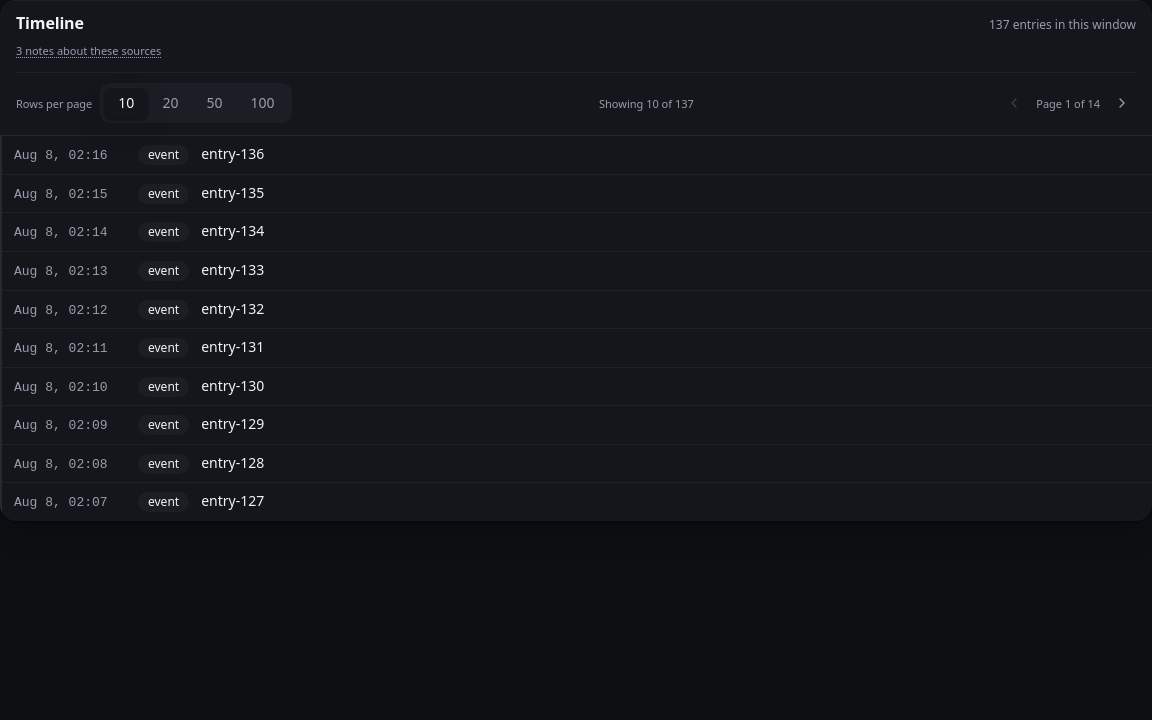
Test: InvestigationTimeline — pagination › clamps to the last page when the list shrinks underneath the reader
Click the radio button labelled "50" at (214,103), box [192,87,236,119]
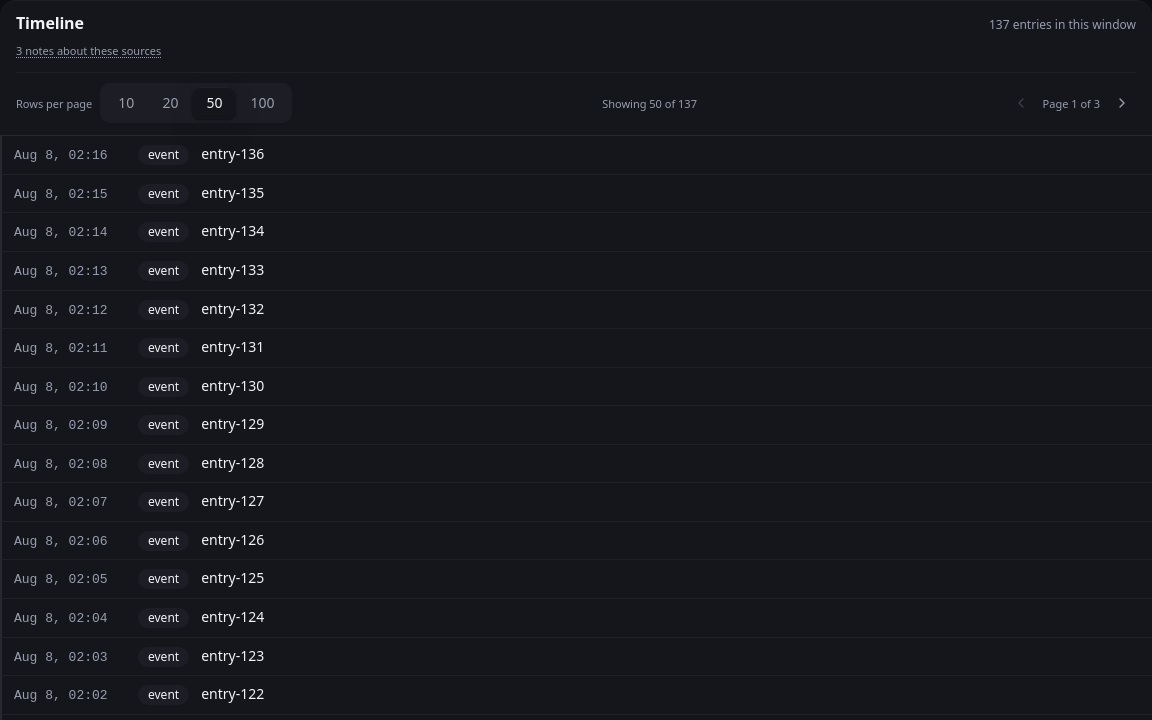
Click the button named "Next page" at (1122,103), box [1108,89,1136,117]
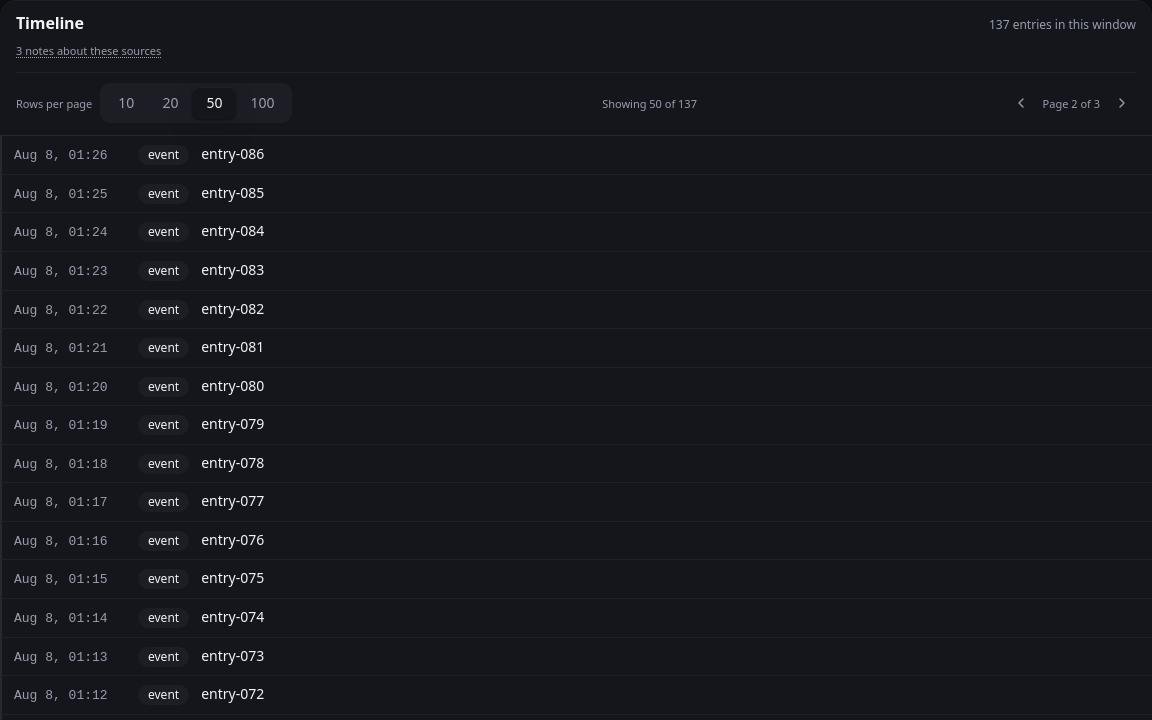
Click the button named "Next page" at (1122,103), box [1108,89,1136,117]
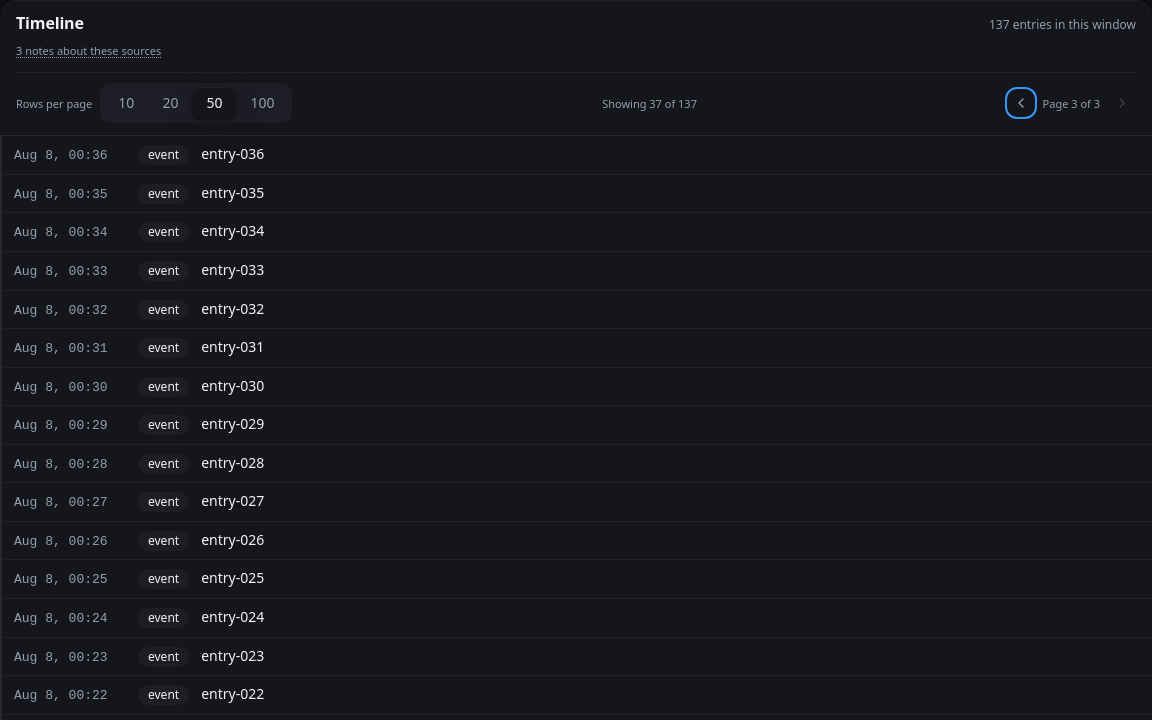
Check: the text with test id "pager-page" reads "Page 3 of 3", box [1043,96,1100,111]
